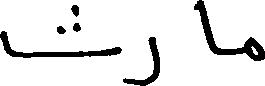X: (0, 0, 118, 62), (120, 32, 157, 85), (201, 0, 215, 58), (247, 32, 264, 65)
